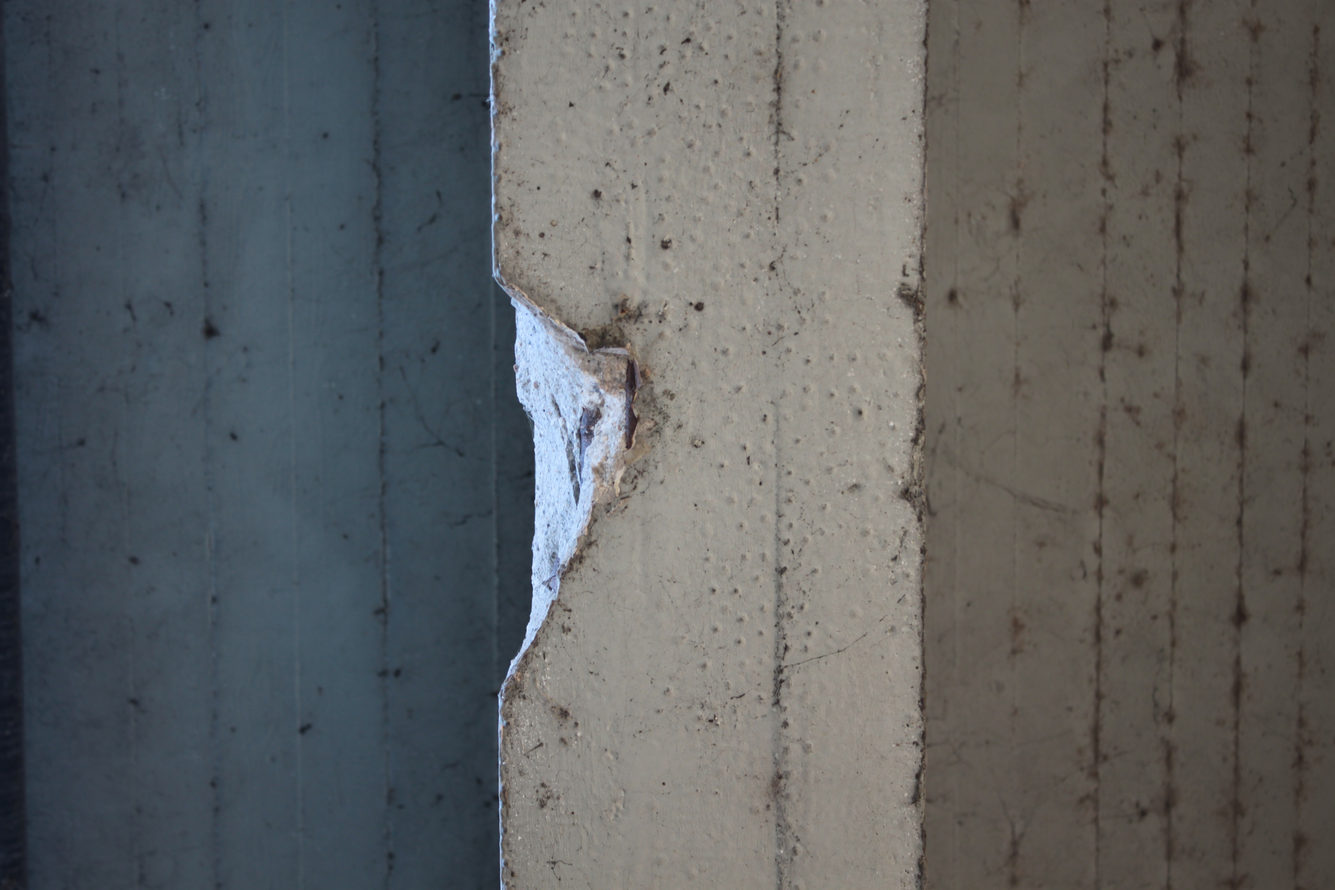Spalling: (490, 257, 657, 683)
